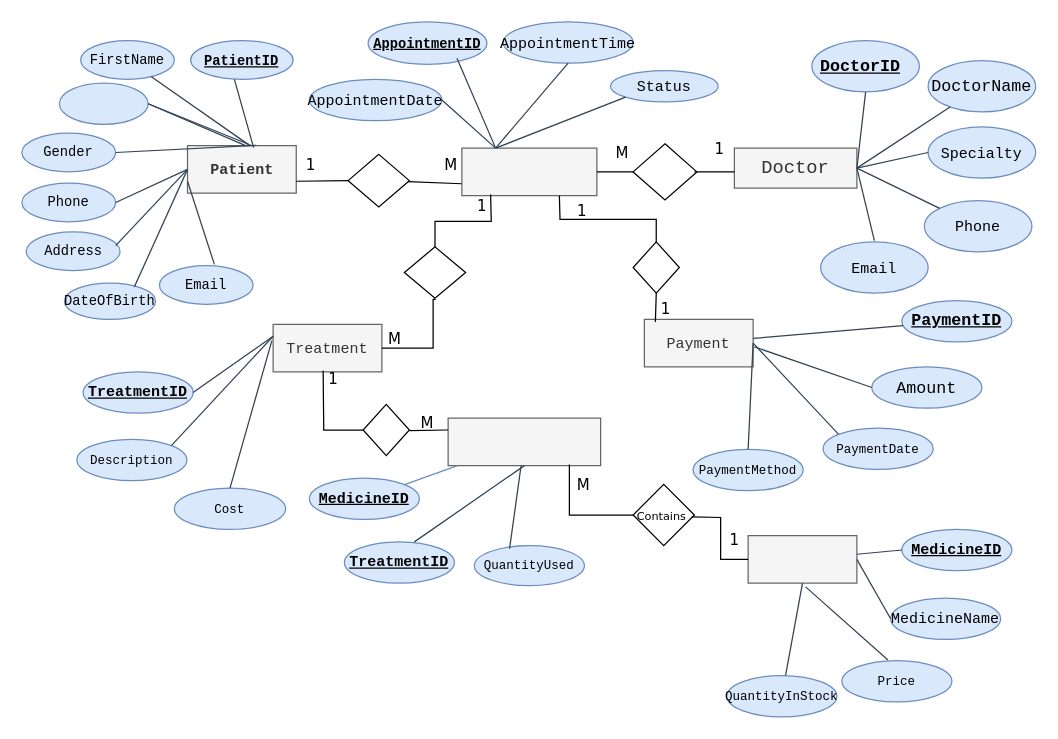
The diagram is 1058 pixels wide and 739 high, and some of its shapes have lost their labels. Each missing label, with the box of its shape:
Appointment: (461, 147, 597, 196)
Books: (347, 153, 409, 207)
Handles: (632, 142, 697, 200)
Has: (632, 241, 679, 293)
Includes: (403, 246, 466, 298)
LastName: (58, 82, 148, 124)
Medicine: (747, 534, 857, 583)
TreatmentMedicine: (447, 417, 601, 466)
Uses: (362, 403, 409, 456)
